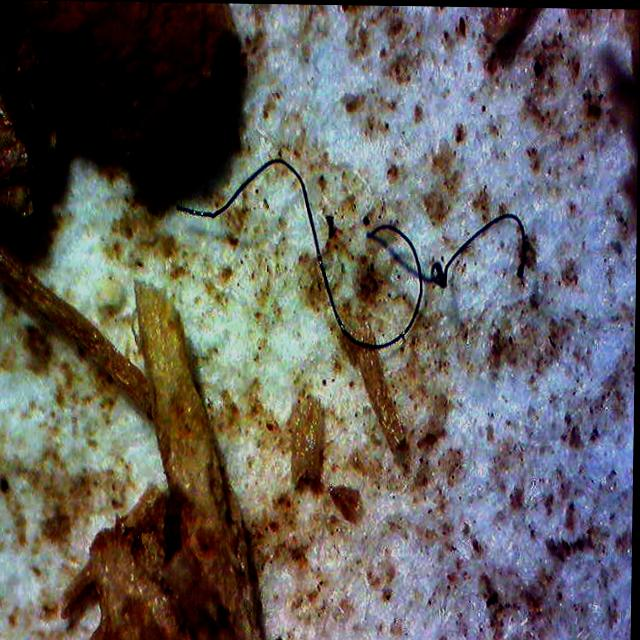microplastic: (179, 157, 424, 348), (432, 211, 528, 286)
